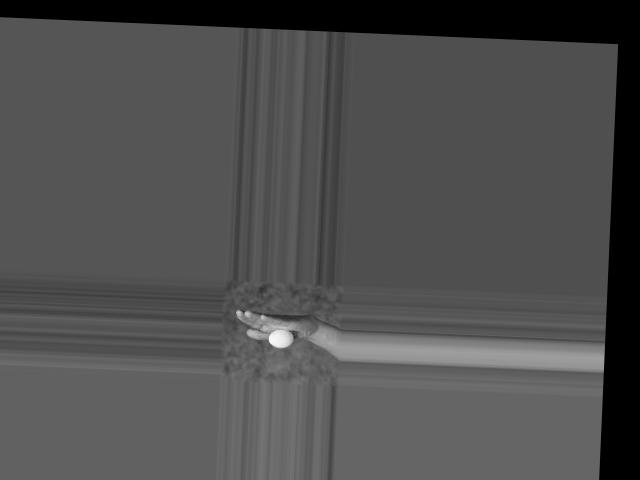egg: (268, 328, 294, 348)
